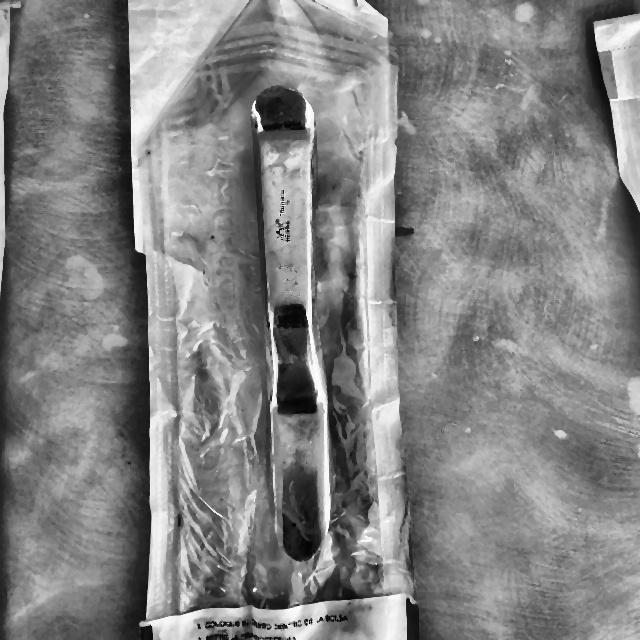separador: (250, 86, 328, 563)
